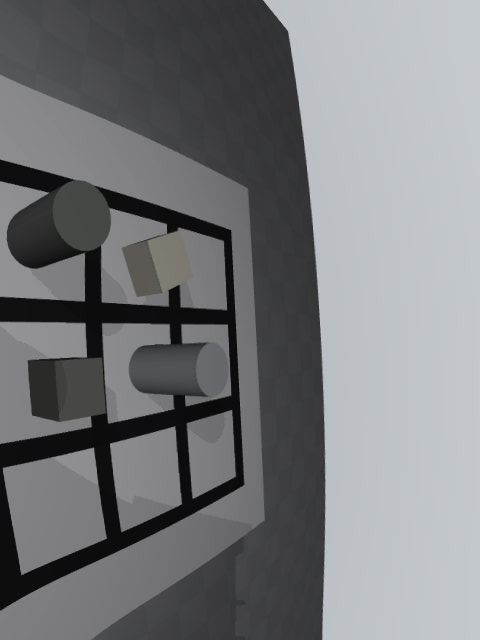can: (129, 342, 228, 397)
cube: (28, 357, 106, 422)
cylinder: (7, 180, 111, 269)
foam: (122, 231, 193, 297)
